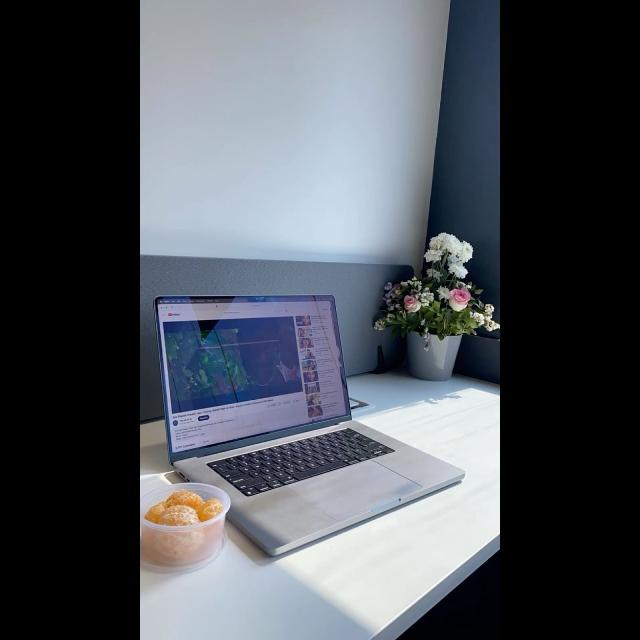laptop: (144, 276, 440, 528)
